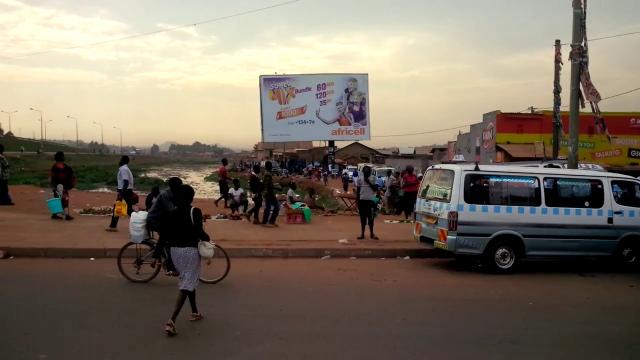van: (413, 154, 640, 276)
